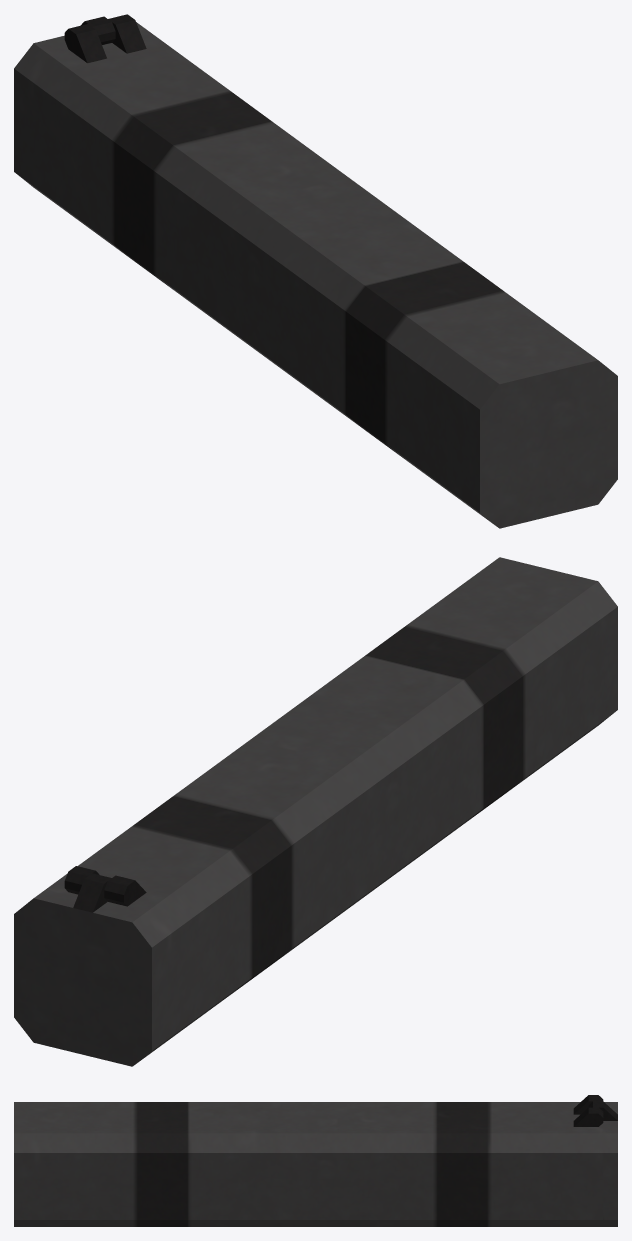
The model's file is launcher_s_1.fbx.
3 renders of one model, top to bottom at view 1: azimuth 30°, elevation 25°; view 2: azimuth 150°, elevation 25°; view 3: azimuth 270°, elevation 25°, orthographic. The views are drawn at different scales.
Parts seen in each view (by area): view 1: launcher_s_1, launcher_s_1C; view 2: launcher_s_1, launcher_s_1C; view 3: launcher_s_1, launcher_s_1C.
Part boxes in pixels (x1,y1,x2,y2): launcher_s_1: (25, 14, 617, 528); launcher_s_1C: (14, 16, 143, 194); launcher_s_1: (45, 557, 617, 1055); launcher_s_1C: (14, 873, 163, 1066); launcher_s_1: (14, 1095, 603, 1226); launcher_s_1C: (588, 1101, 617, 1226).
Size of the model in its own units: 1.4 by 1.6 by 8.19.
